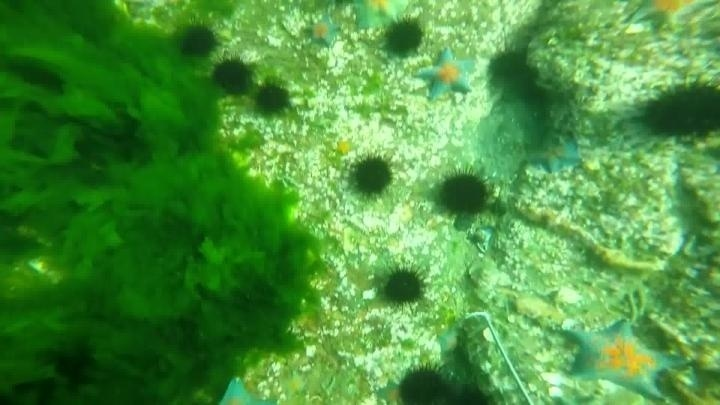echinus: (637, 76, 720, 142), (434, 168, 492, 219), (394, 363, 455, 404), (48, 338, 98, 388), (347, 152, 396, 201), (485, 45, 534, 91), (378, 264, 428, 308), (380, 15, 427, 59), (210, 55, 255, 98), (174, 22, 220, 60), (251, 79, 293, 119)
starfish: (560, 317, 680, 401), (415, 46, 478, 103), (632, 1, 713, 36), (525, 135, 584, 176), (348, 1, 412, 35), (302, 14, 343, 50), (215, 375, 262, 403), (434, 325, 462, 356), (279, 371, 312, 397), (373, 380, 405, 405), (332, 137, 357, 158)
